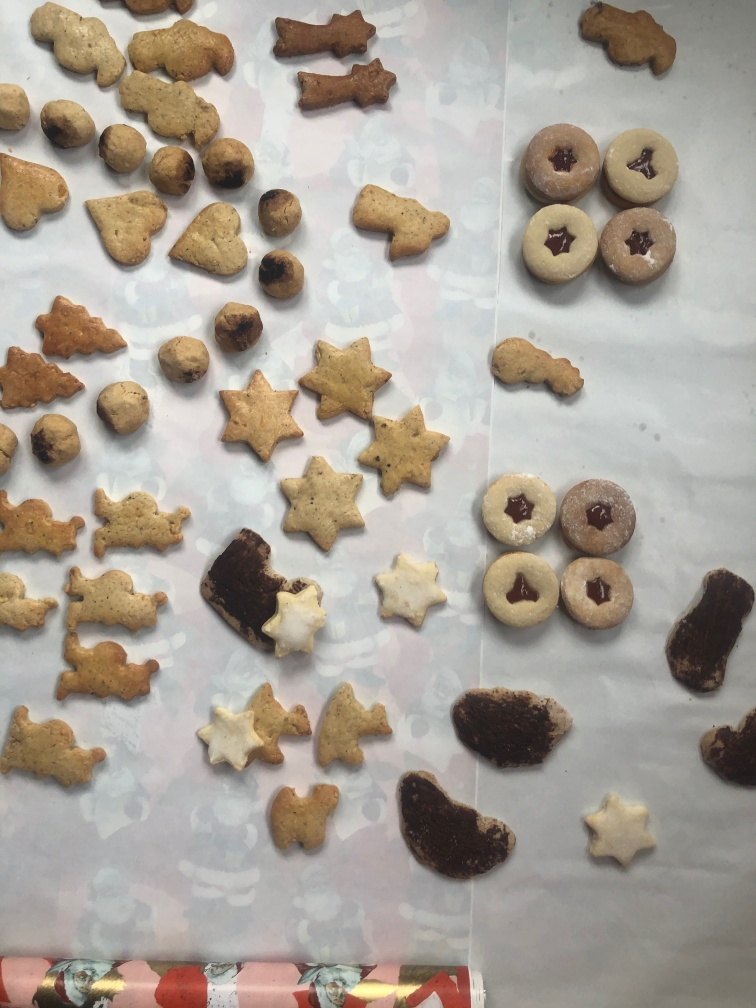angel: (349, 182, 459, 275)
christmas shortbread with jam: (468, 472, 564, 548), (519, 118, 609, 198), (517, 205, 603, 288), (600, 207, 682, 289), (557, 478, 637, 560), (605, 120, 677, 203), (561, 556, 636, 633), (483, 554, 559, 628)
christmas tree: (31, 295, 127, 368), (1, 340, 88, 412)
lamb: (310, 683, 397, 774), (260, 777, 343, 860), (249, 681, 312, 772)
santa claus: (1, 697, 104, 806), (57, 561, 176, 648), (51, 627, 171, 713), (87, 479, 194, 567), (22, 1, 121, 94), (113, 62, 221, 145), (576, 2, 682, 82), (127, 21, 242, 93), (3, 488, 86, 577)
shooting star: (294, 55, 399, 127), (265, 5, 383, 62)
snowball: (155, 333, 217, 393), (93, 377, 151, 434), (25, 414, 83, 471), (41, 95, 94, 156), (252, 246, 303, 308), (202, 134, 260, 185), (213, 299, 265, 355), (257, 185, 304, 243), (99, 122, 147, 178), (153, 141, 197, 197), (1, 83, 31, 132)
snowman: (487, 333, 588, 415)
star: (274, 457, 374, 561), (293, 331, 390, 427), (355, 406, 448, 505), (214, 367, 296, 471), (576, 785, 658, 878), (370, 544, 454, 632), (191, 689, 263, 779), (262, 578, 333, 662)
weird #1: (387, 768, 522, 881), (194, 522, 297, 663), (449, 681, 583, 771), (663, 567, 752, 693), (699, 694, 756, 800)
